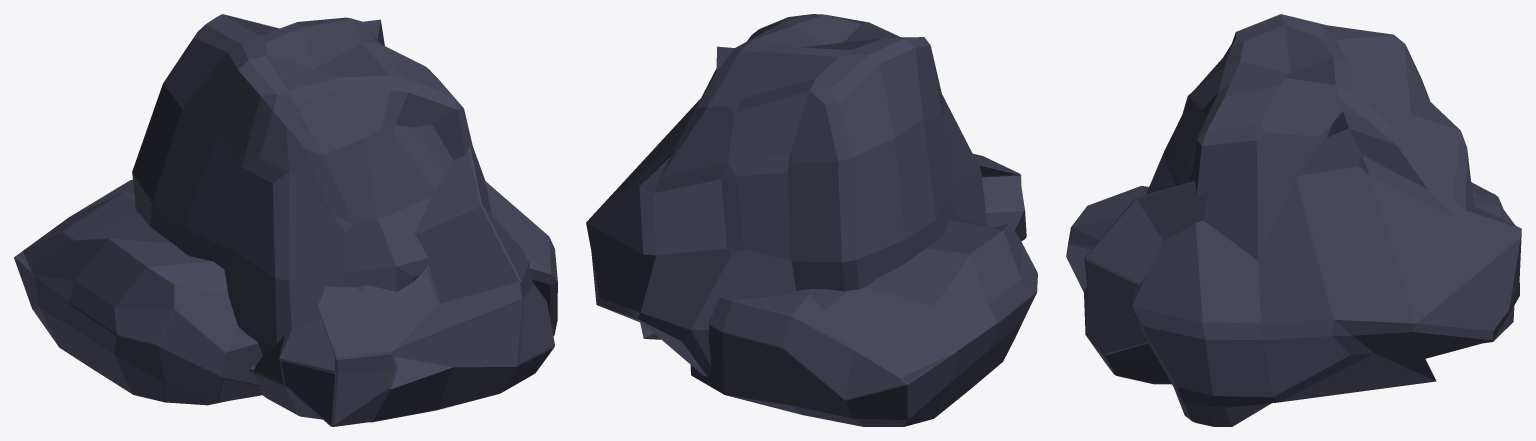
The model's file is Piedras2.fbx.
3 views of the same model, side by side, from view 1: azimuth 30°, elevation 25°; view 2: azimuth 150°, elevation 25°; view 3: azimuth 270°, elevation 25° (orthographic). The views are drawn at different scales.
Parts seen in each view (by area): view 1: Cube.001, Cube, Cube.002; view 2: Cube.001, Cube.002, Cube; view 3: Cube.001, Cube, Cube.002.
Part boxes in pixels (x1=…): Cube.001: x1=132, y1=14, x2=557, y2=355; Cube: x1=249, y1=147, x2=554, y2=426; Cube.002: x1=14, y1=179, x2=263, y2=405; Cube.001: x1=586, y1=14, x2=987, y2=376; Cube.002: x1=690, y1=217, x2=1037, y2=426; Cube: x1=973, y1=153, x2=1026, y2=241; Cube.001: x1=1132, y1=14, x2=1521, y2=426; Cube: x1=1066, y1=181, x2=1208, y2=384; Cube.002: x1=1471, y1=182, x2=1515, y2=343.
Size of the model in its own units: 303 by 238 by 316.
